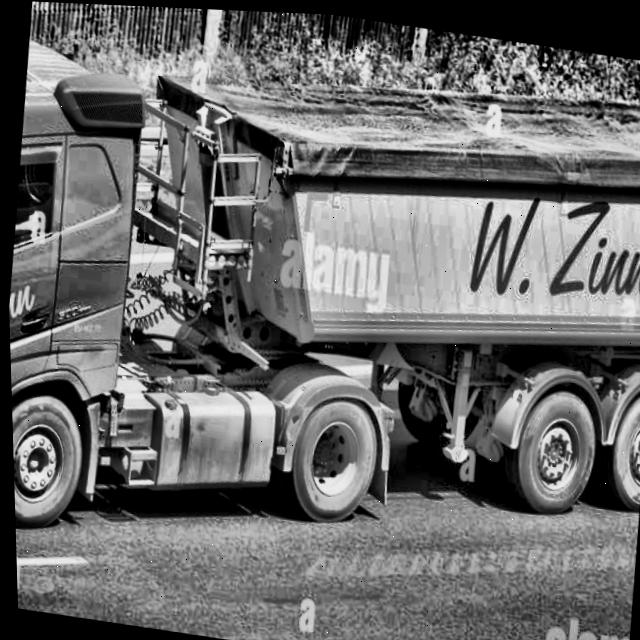dump_truck: (0, 0, 640, 596)
